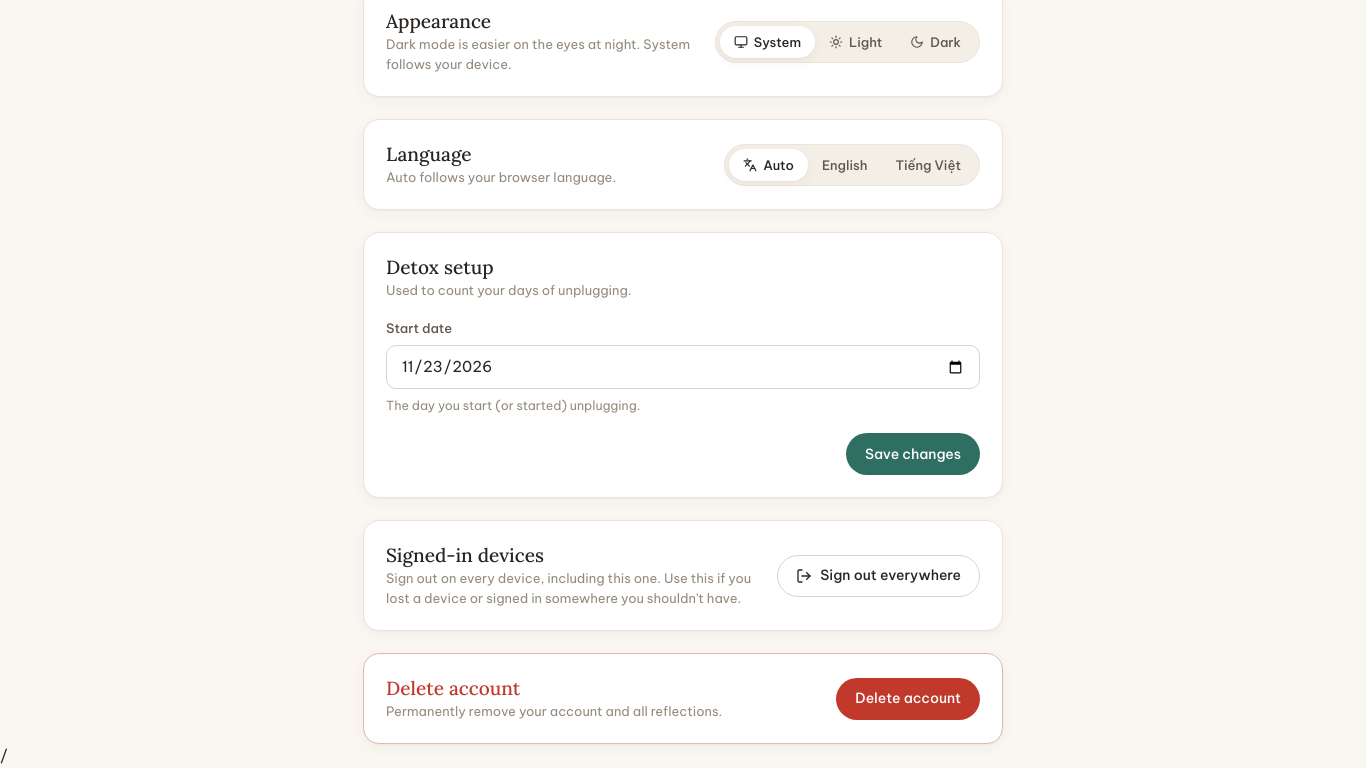
Test: Settings › only allows deleting the account after typing the user name
Later steps or results of the test are not shown.
(page scrolled)
Step 1. Click the button "Delete account" → (908, 699), box [836,678,980,720]
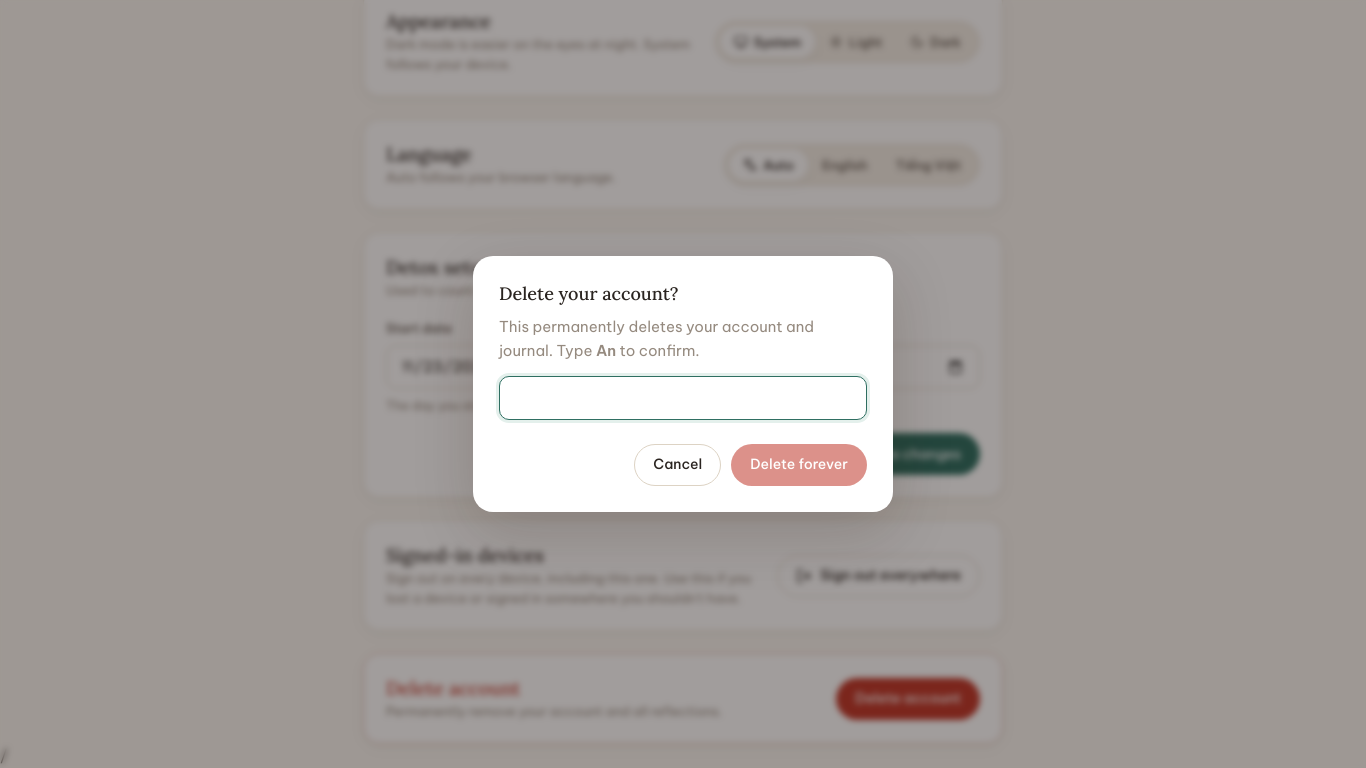
Now the button "Delete forever" is disabled, box [731,444,867,486]
Step 2. Type "Ann" into the field → (683, 398), box [499,376,867,420]
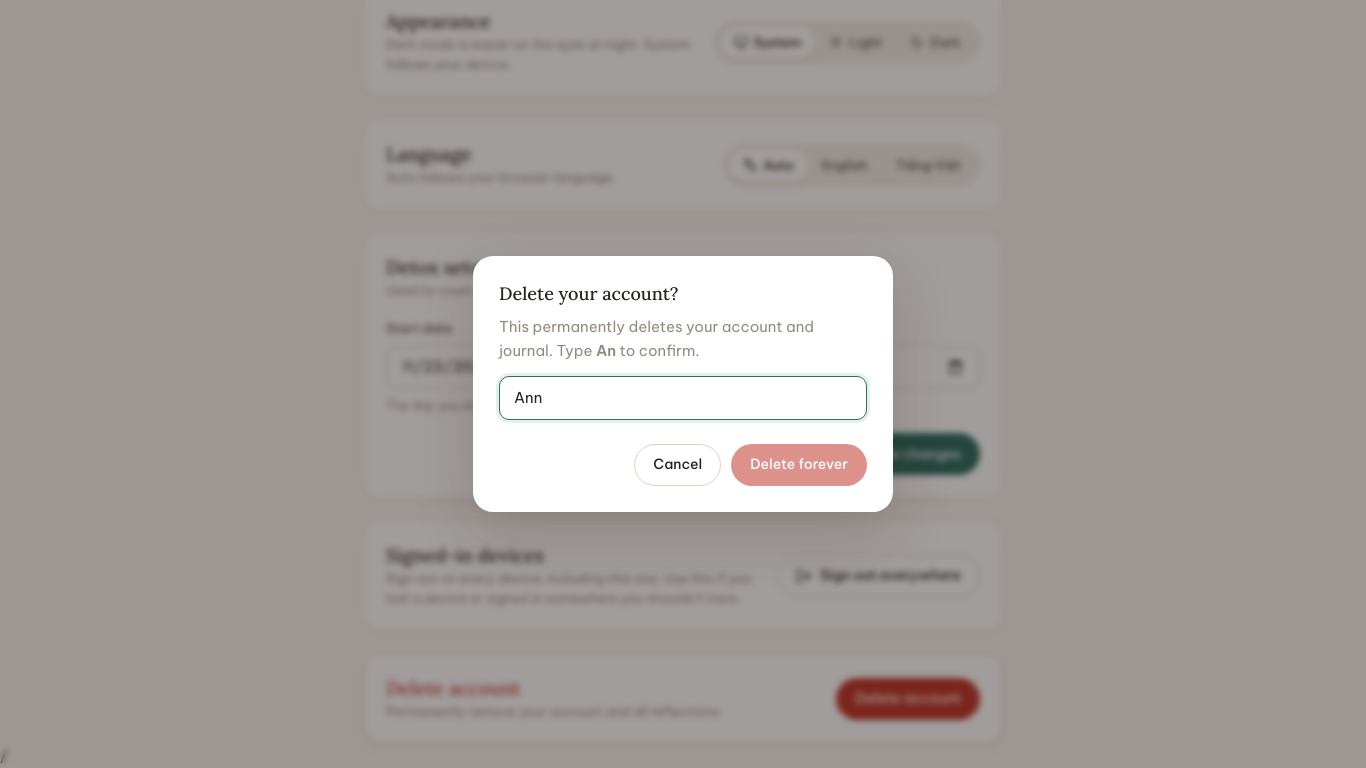
Now the button "Delete forever" is disabled, box [731,444,867,486]
Step 3. Replace the text in the field with "An" → (683, 398), box [499,376,867,420]
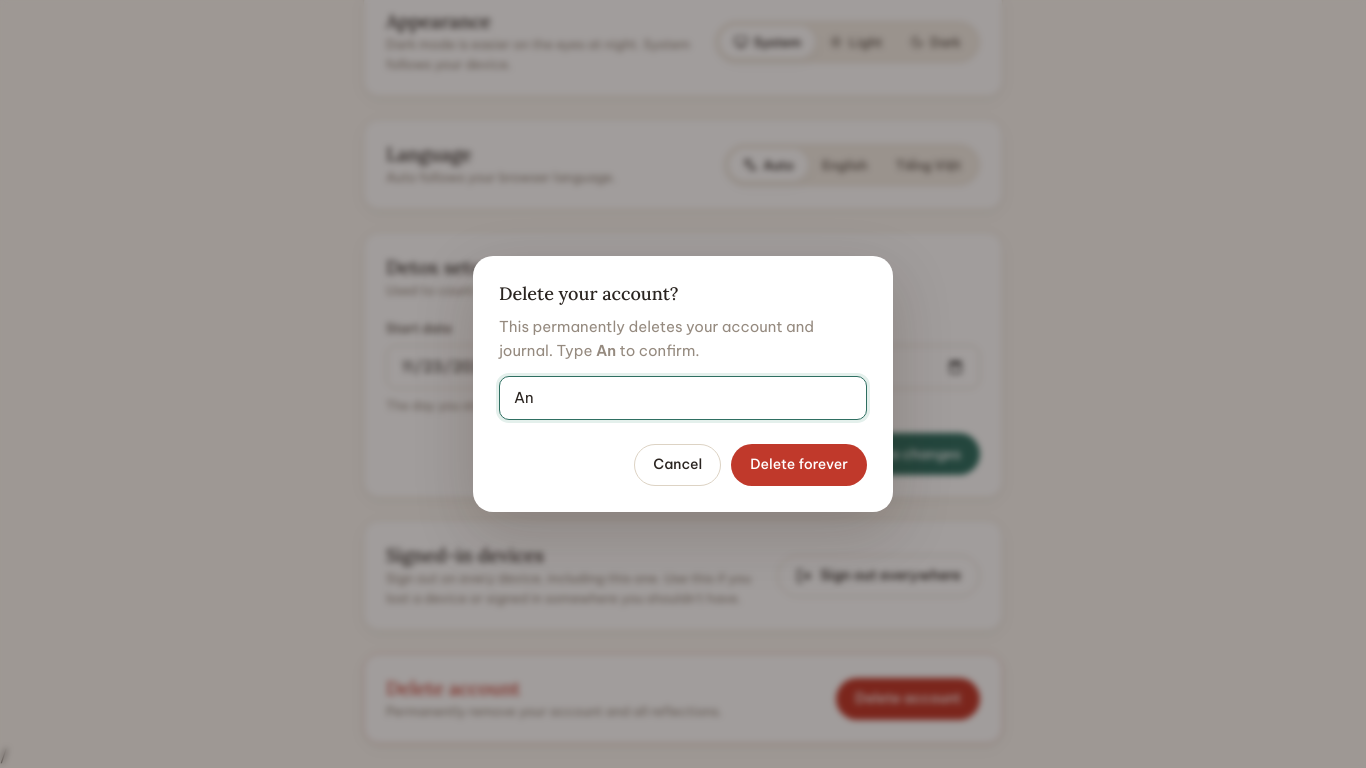
Now the button "Delete forever" is enabled, box [731,444,867,486]
